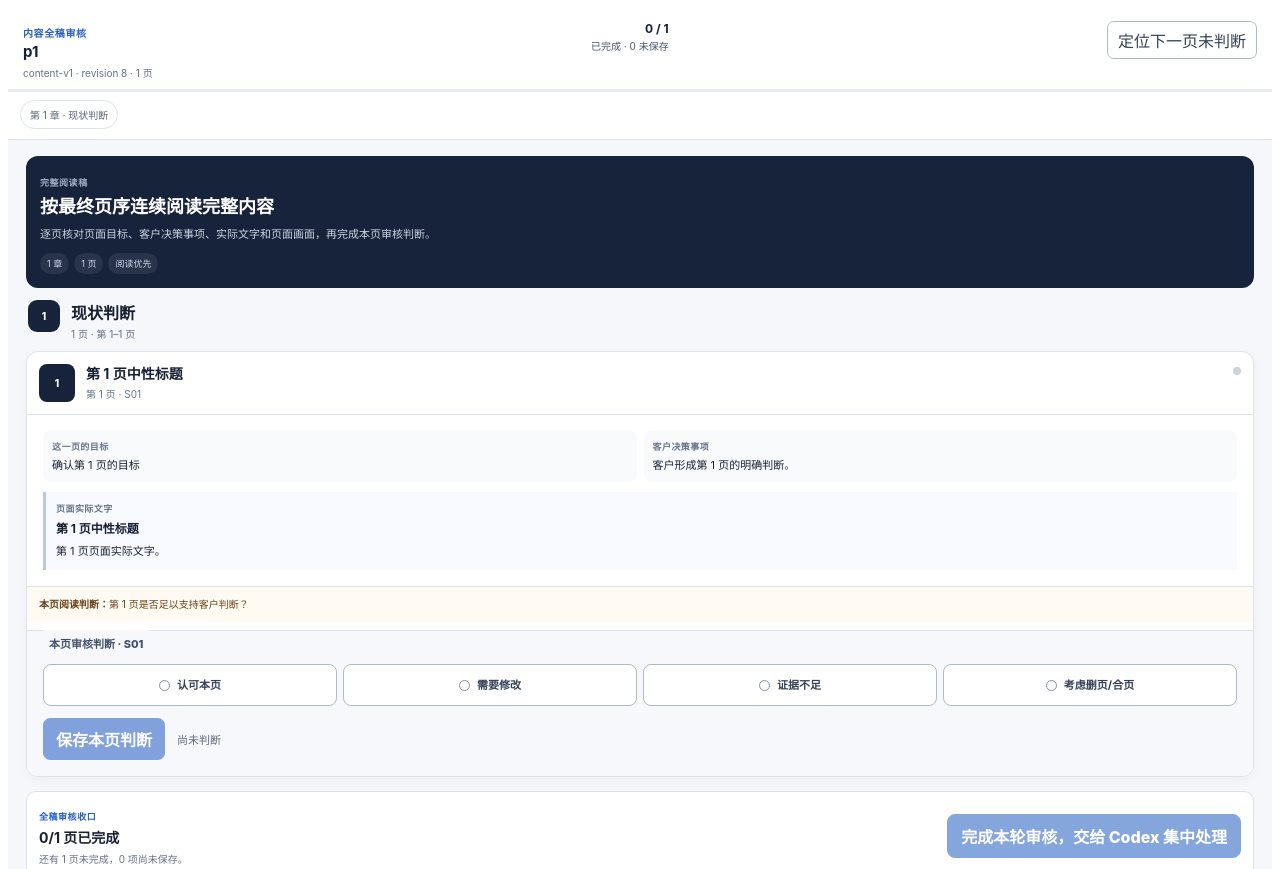
ContentReviewViewModelController › sends the exact page-save command and advances revision, progress, and draft state
Click the radio button labelled "需要修改". click: (490, 685)
box: x1=343 y1=664 x2=637 y2=706
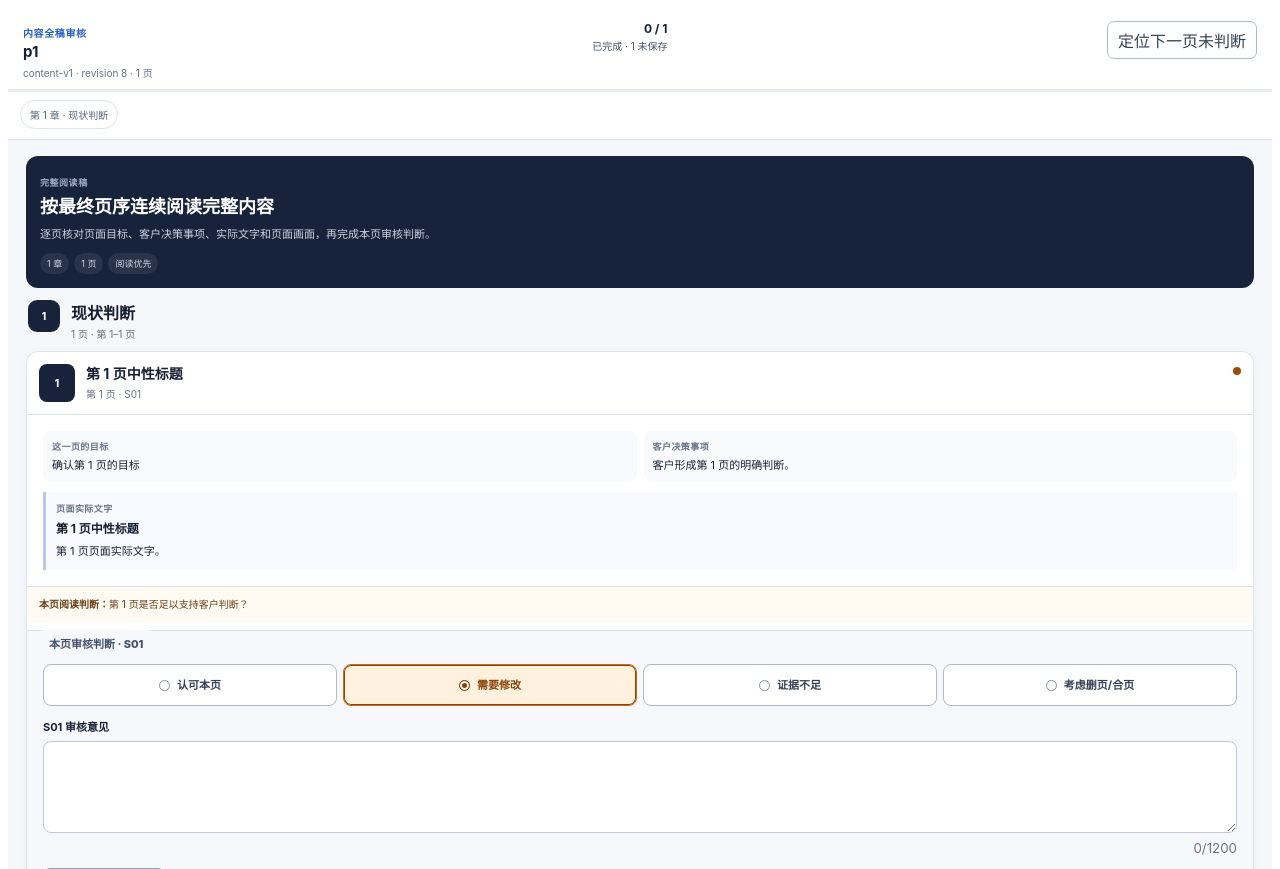
Type "  请补充客户现状依据。  " into the text box labelled "S01 审核意见". click: (640, 787)
box: x1=43 y1=741 x2=1237 y2=833
(page scrolled)
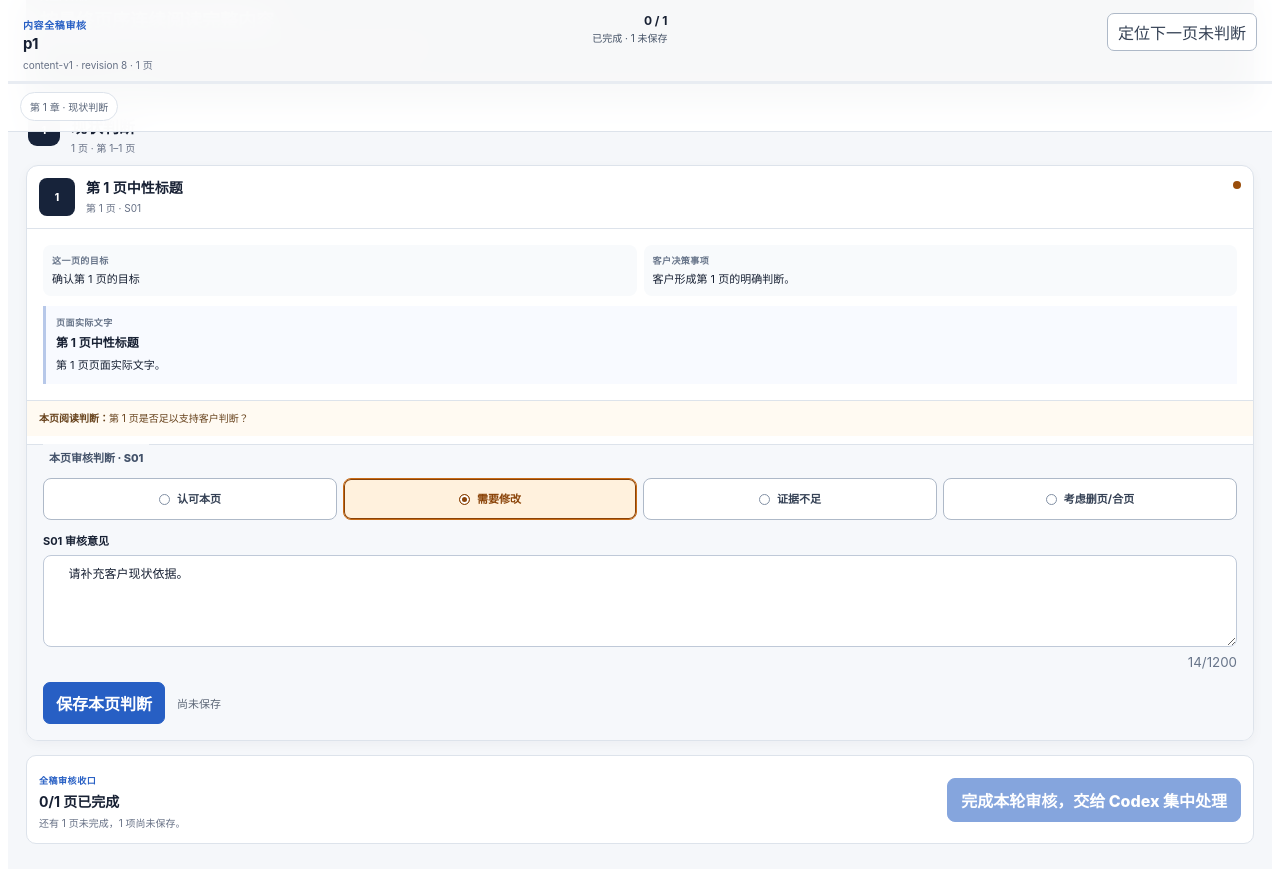
Click the button "保存本页判断". click: (104, 703)
box: x1=43 y1=682 x2=165 y2=724
(page scrolled)
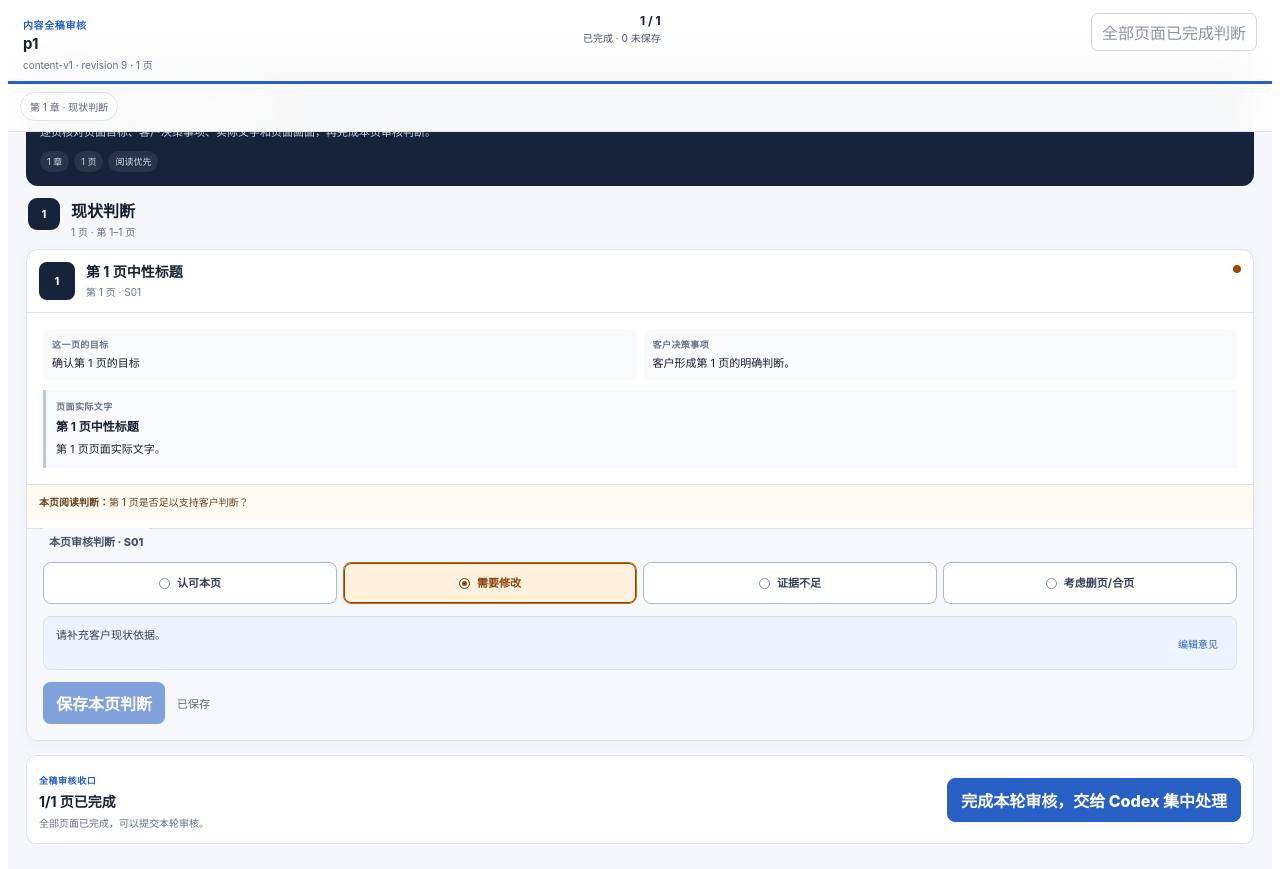
Now the text "content-v1 · revision 9 · 1 页" is shown, box x1=23 y1=57 x2=153 y2=72
Now the text "1 / 1" is shown, box x1=640 y1=13 x2=661 y2=28
Now the button "保存本页判断" is disabled, box x1=43 y1=682 x2=165 y2=724
